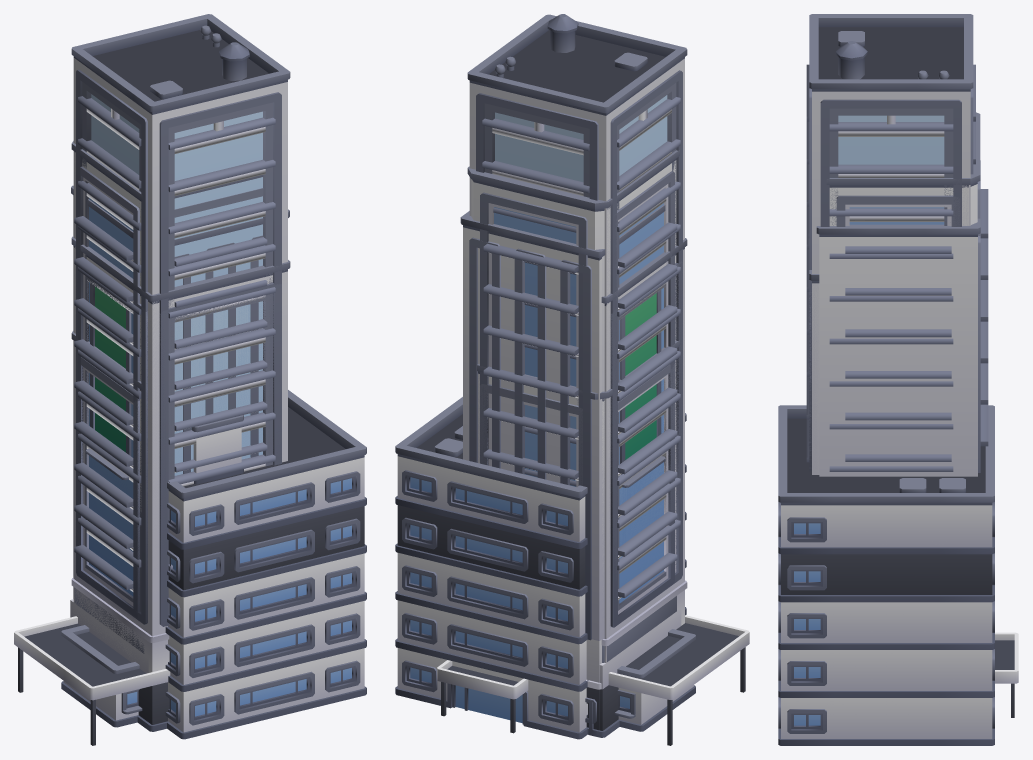
File: arch_com.glb
The picture shows the model from 3 angles, left to right: view 1: azimuth 30°, elevation 25°; view 2: azimuth 150°, elevation 25°; view 3: azimuth 270°, elevation 25°; orthographic projection.
Visible parts, largest first — view 1: building-skyscraper-d, building-n, building-skyscraper-c, building-skyscraper-b, building-skyscraper-a, building-skyscraper-e, building-e; view 2: building-n, building-skyscraper-d, building-skyscraper-b, building-skyscraper-e, building-skyscraper-a, building-skyscraper-c, building-e; view 3: building-n, building-skyscraper-d, building-skyscraper-e, building-skyscraper-b, building-skyscraper-c, building-skyscraper-a.
Part boxes in pixels (box(x1,y1,x2,y2)): building-skyscraper-d: box(71, 14, 290, 634); building-n: box(14, 390, 366, 745); building-skyscraper-c: box(71, 236, 290, 731); building-skyscraper-b: box(71, 141, 267, 612); building-skyscraper-a: box(70, 330, 267, 717); building-skyscraper-e: box(71, 185, 289, 598); building-e: box(61, 625, 142, 727); building-n: box(395, 397, 749, 745); building-skyscraper-d: box(467, 14, 687, 638); building-skyscraper-b: box(467, 150, 679, 638); building-skyscraper-e: box(460, 204, 665, 736); building-skyscraper-a: box(477, 340, 681, 737); building-skyscraper-c: box(573, 238, 687, 733); building-e: box(614, 629, 695, 731); building-n: box(778, 405, 1018, 745); building-skyscraper-d: box(806, 14, 975, 474); building-skyscraper-e: box(816, 160, 980, 476); building-skyscraper-b: box(808, 112, 988, 456); building-skyscraper-c: box(806, 270, 953, 474); building-skyscraper-a: box(808, 363, 988, 461).
Bounding box in the file's own units: 2.32 × 5.47 × 1.82.
1 material, 1 textured.
